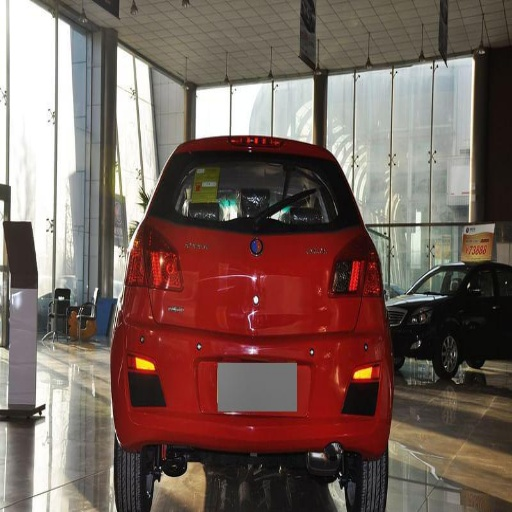back_bumper: (117, 297, 391, 465)
trunk: (133, 225, 377, 407)
